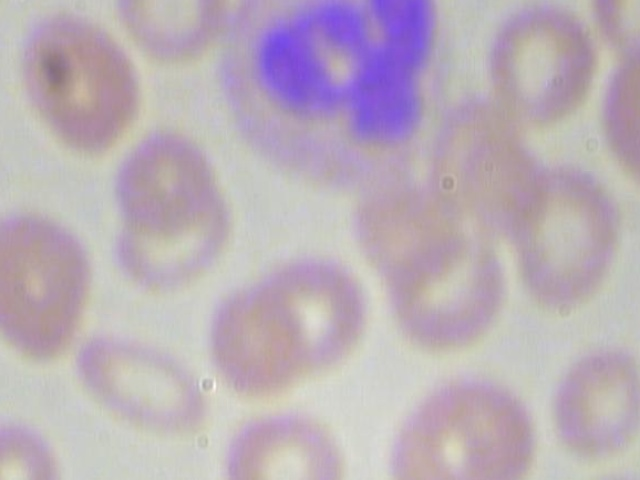RBC: (12, 0, 148, 163), (375, 207, 520, 357), (69, 316, 221, 449), (0, 207, 105, 369), (485, 0, 600, 133), (202, 284, 317, 405), (415, 373, 544, 480), (540, 339, 640, 460), (217, 406, 355, 480), (113, 0, 234, 67), (0, 402, 66, 480), (568, 464, 640, 480)
